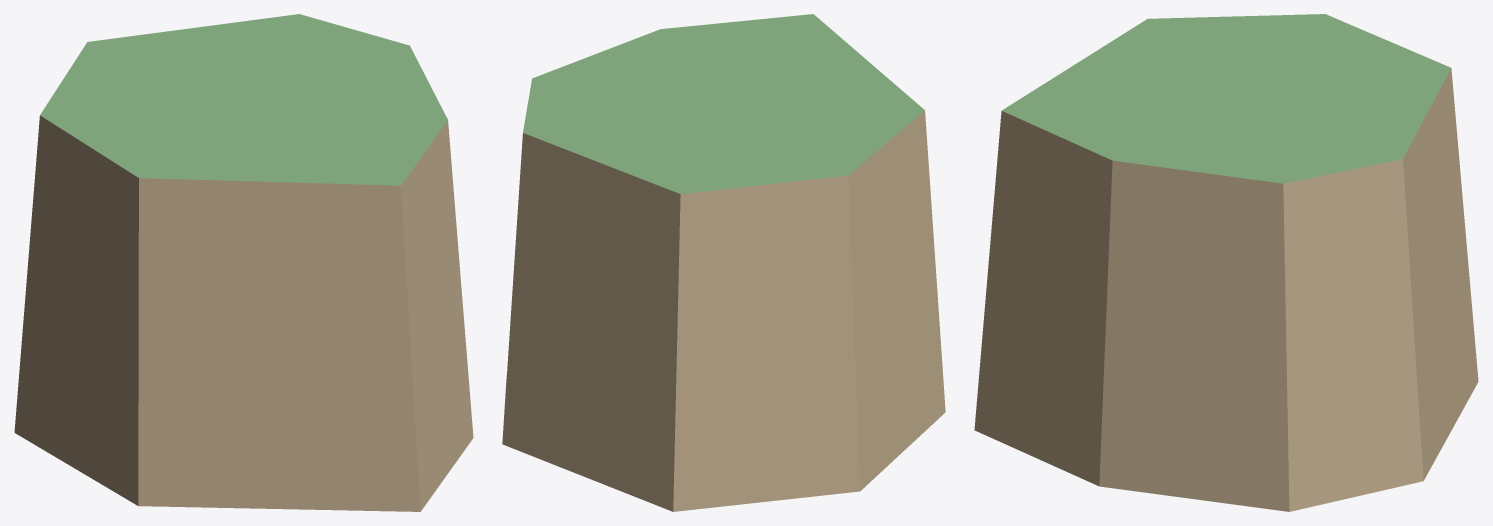
The model's file is LandPrefab.004.fbx.
3 views of the same model, side by side, from view 1: azimuth 30°, elevation 25°; view 2: azimuth 150°, elevation 25°; view 3: azimuth 270°, elevation 25° (orthographic). The views are drawn at different scales.
Visible parts, largest first — view 1: LandPrefab.004; view 2: LandPrefab.004; view 3: LandPrefab.004.
Boxes of the visible parts, x1,y1,x2,y2 form: LandPrefab.004: (14,14,473,511); LandPrefab.004: (502,14,945,511); LandPrefab.004: (974,14,1478,511).
Bounding box in the file's own units: 397 × 308 × 444.
